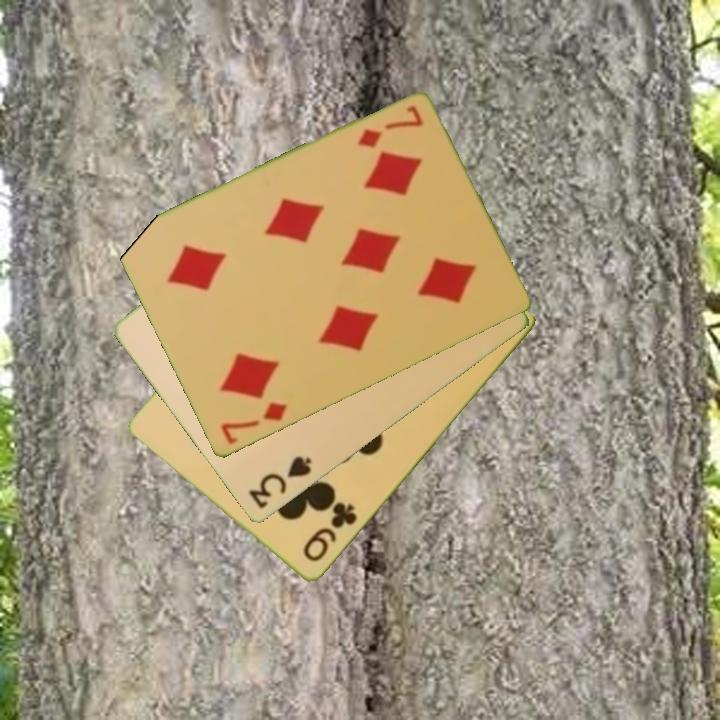3s: (245, 452, 315, 513)
7d: (353, 102, 426, 152), (217, 399, 290, 448)
9c: (299, 499, 361, 566)
